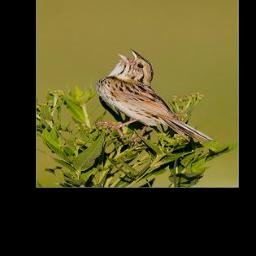Sparrow: (98, 48, 217, 144)
